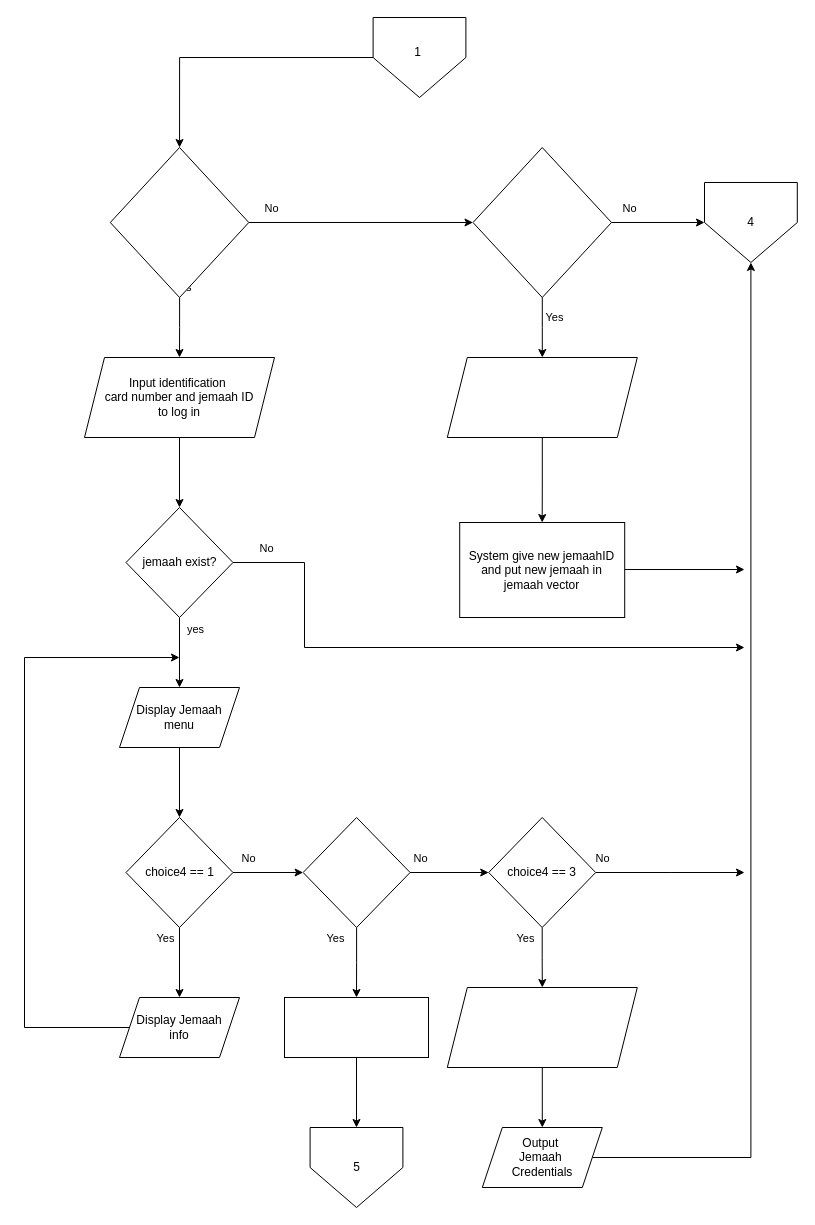
Image size: 815x1225. Some labels were removed from this diagram. Each missing label, with the centre of its shape:
choice3 == 1: the point at 179,222
choice3 == 2: the point at 542,222
choice4 == 2: the point at 356,872
chooseIbadahPackage(): the point at 356,1027
Input name, contact, identification card number, email, age: the point at 541,397
input name, contact, identification card, email, age: the point at 541,1027
